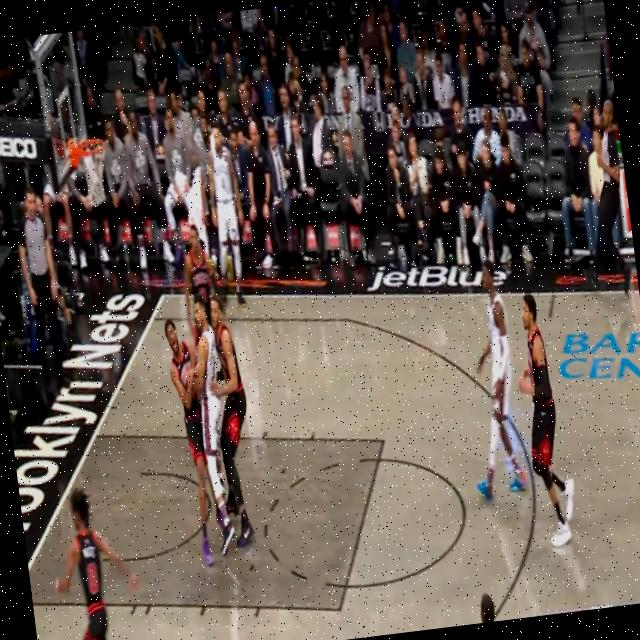Foul: (156, 300, 241, 554)
